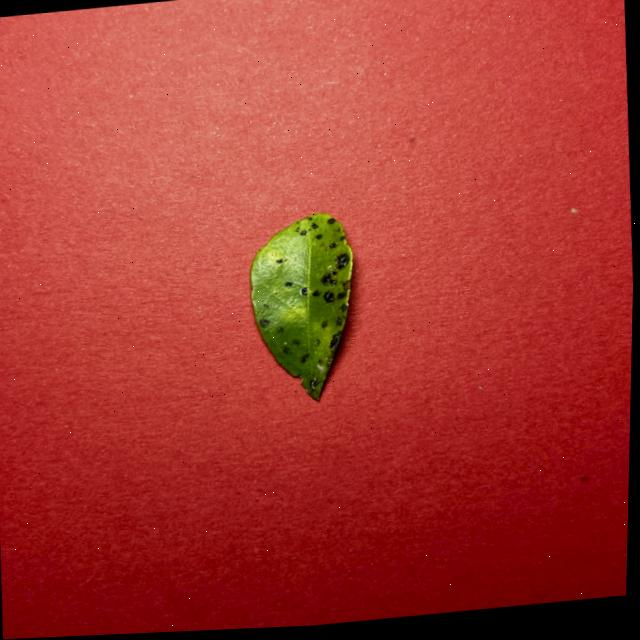sooty_mold: (249, 213, 352, 399)
